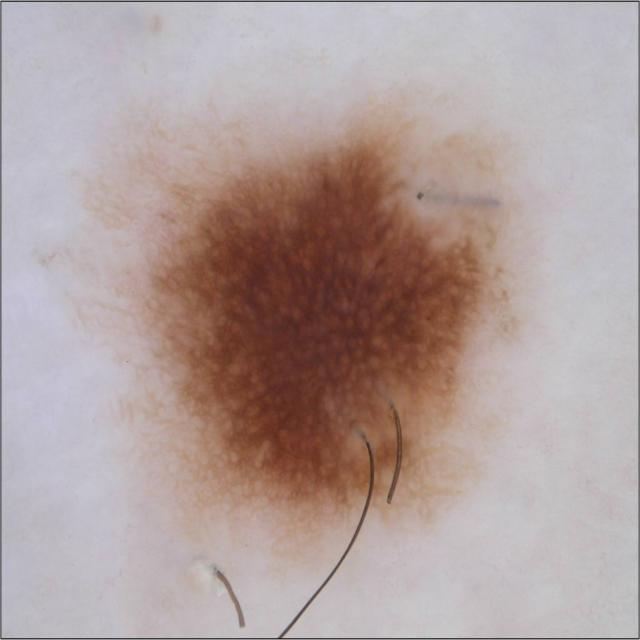Benign: (124, 112, 518, 578)
